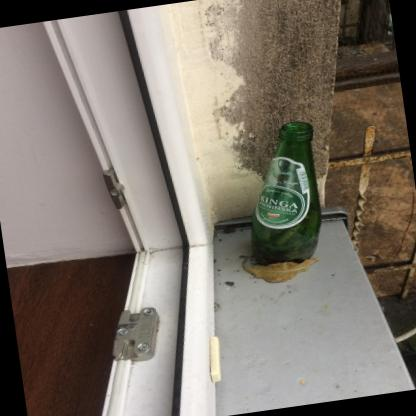Plastic: (251, 121, 322, 264)
